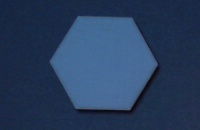black: (50, 17, 159, 112)
